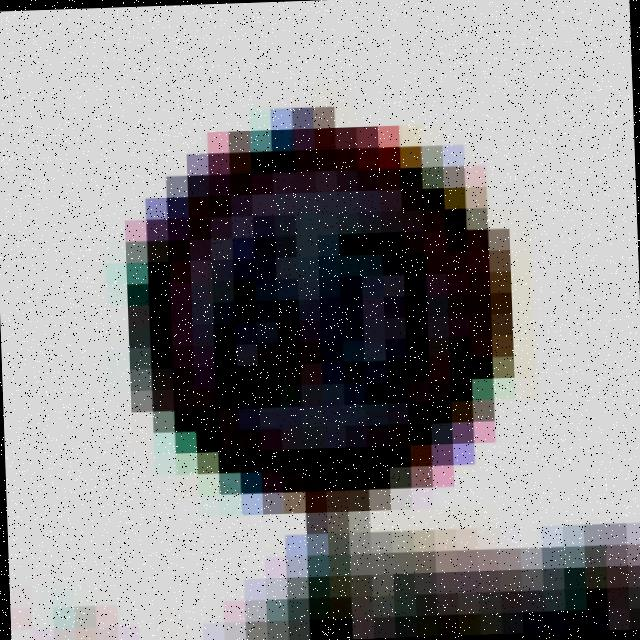Ograniczenie predkosci do 60: (136, 120, 494, 496)
